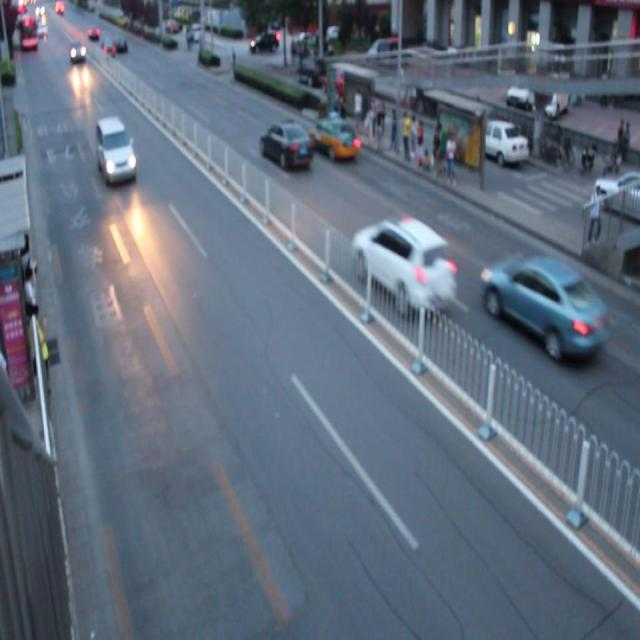car: (478, 248, 608, 362), (351, 213, 456, 320), (259, 116, 311, 173), (307, 114, 360, 165)
truck: (95, 115, 138, 187)
